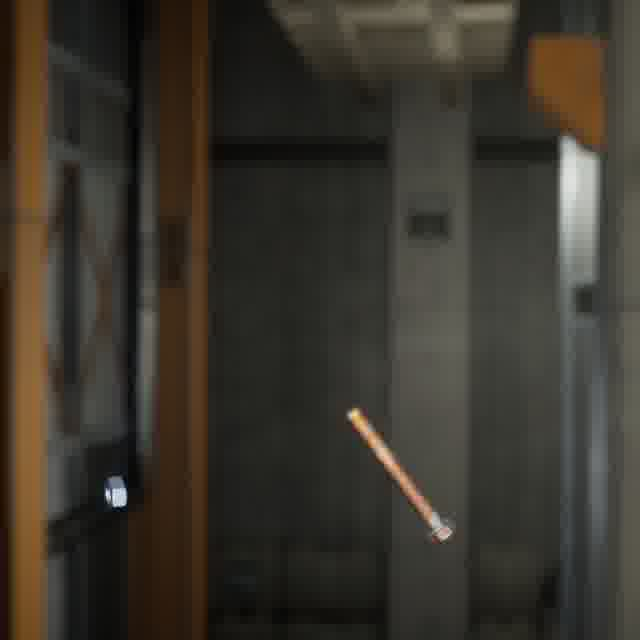bolt: (341, 402, 459, 547)
nut: (99, 471, 131, 515)
